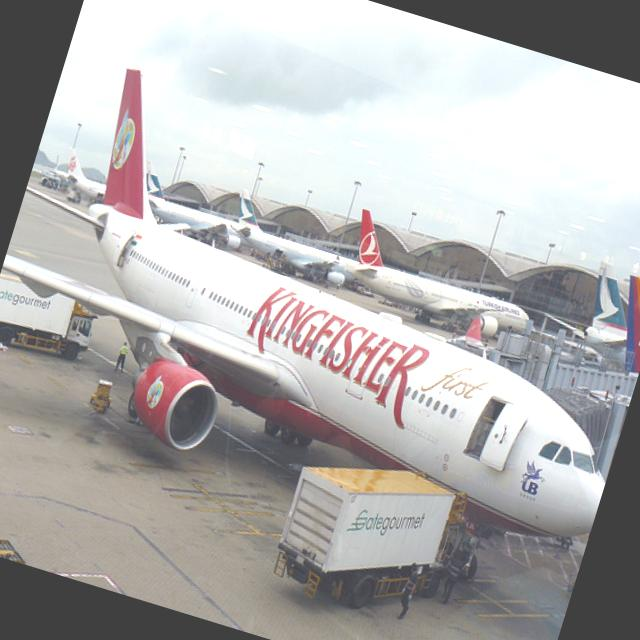Vehicle: (264, 440, 473, 636), (0, 270, 102, 368), (0, 497, 61, 572)
